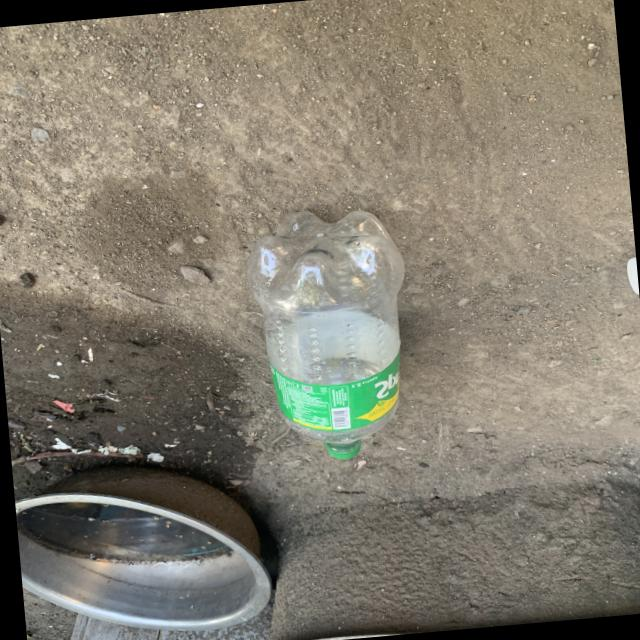Bottle: (248, 210, 403, 458)
